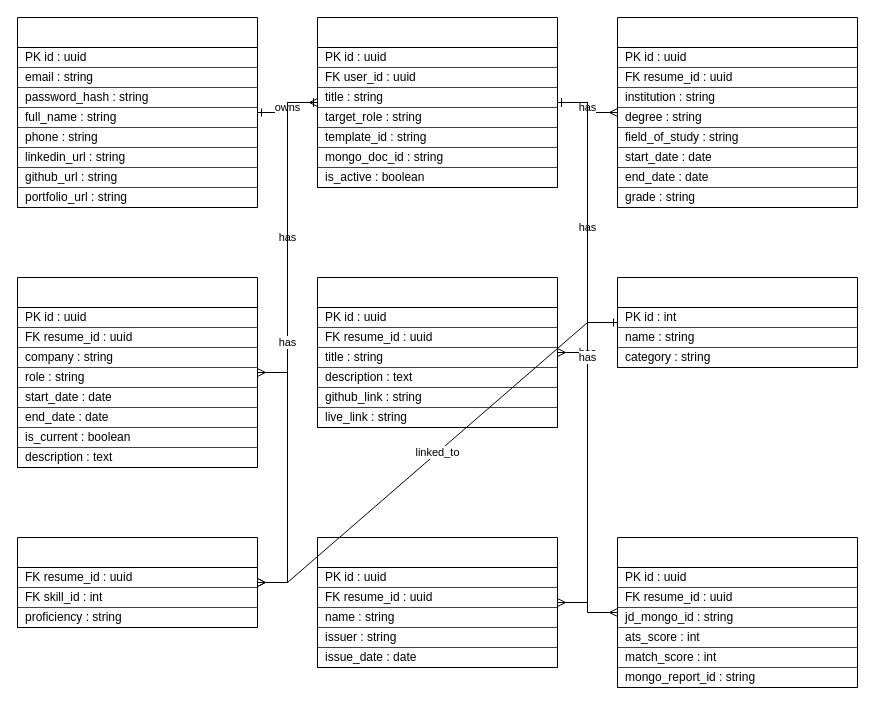
The diagram is 875 pixels wide and 705 high, and some of its shapes have lost their labels. The shapes that lost their labels are listed below. From the top down, each one's box as (x1, y1, x2, y2) in pixels, then its label:
(16, 16, 258, 208): USERS
(316, 16, 558, 188): RESUMES
(616, 16, 858, 208): EDUCATION
(616, 276, 858, 368): SKILLS
(16, 276, 258, 468): EXPERIENCE
(316, 276, 558, 428): PROJECTS
(16, 536, 258, 628): RESUME_SKILLS
(316, 536, 558, 668): CERTIFICATIONS
(616, 536, 858, 688): ATS_REPORTS_SUMMARY
